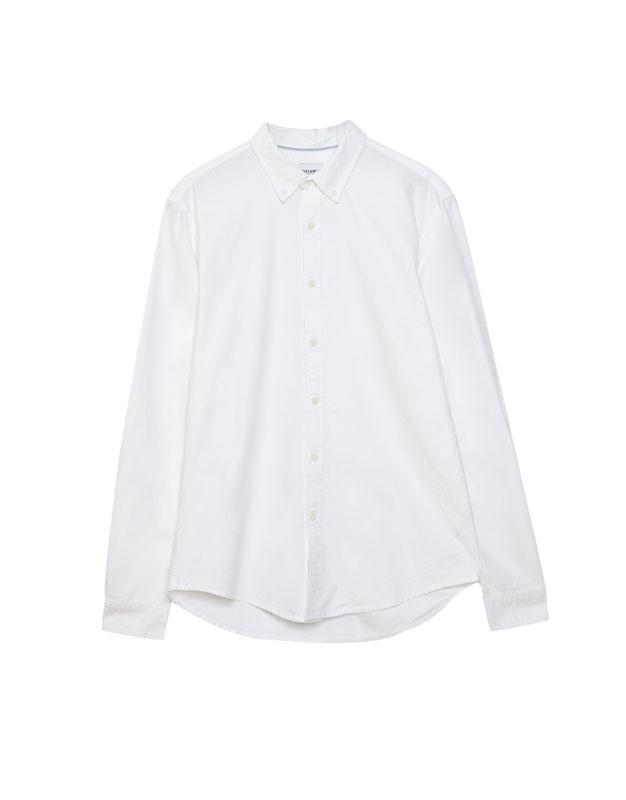teeshirt: (90, 113, 553, 644)
